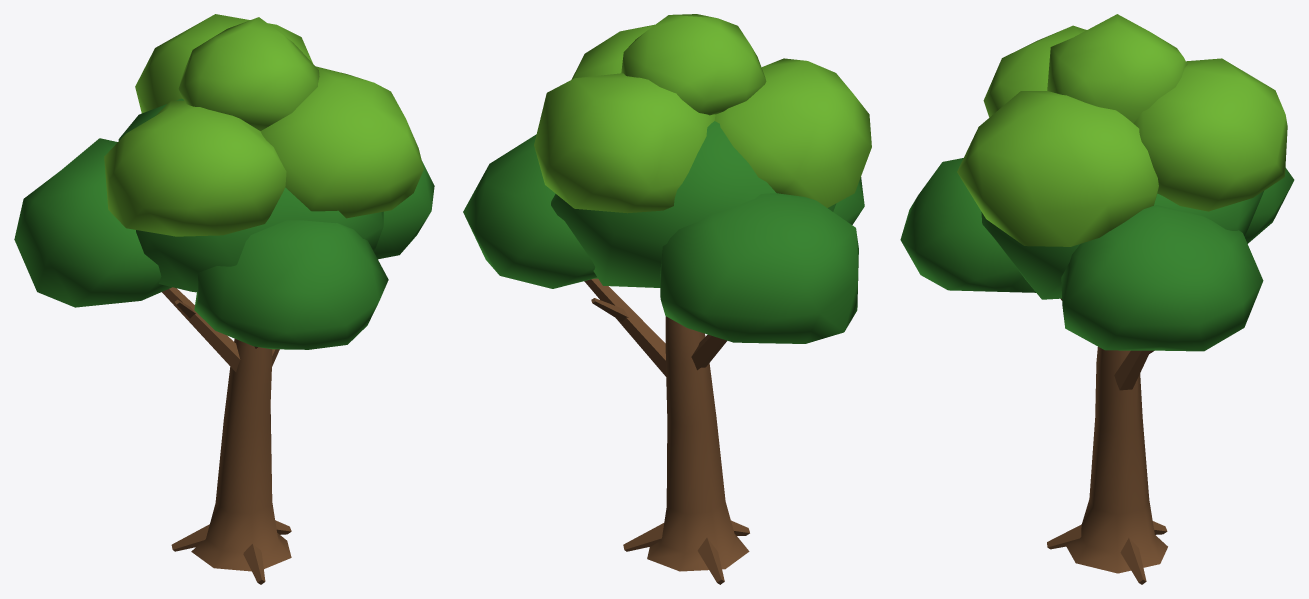
File: oak_tree.glb
The picture shows the model from 3 angles, left to right: view 1: azimuth 30°, elevation 25°; view 2: azimuth 150°, elevation 25°; view 3: azimuth 270°, elevation 25°; orthographic projection.
Parts seen in each view (by area): view 1: oak_tree; view 2: oak_tree; view 3: oak_tree.
Part boxes in pixels (left/top/right/bottom): oak_tree: left=14, top=14, right=434, bottom=584; oak_tree: left=463, top=14, right=871, bottom=584; oak_tree: left=900, top=14, right=1294, bottom=584.
Bounding box in the file's own units: 3.63 × 4.94 × 3.29.
